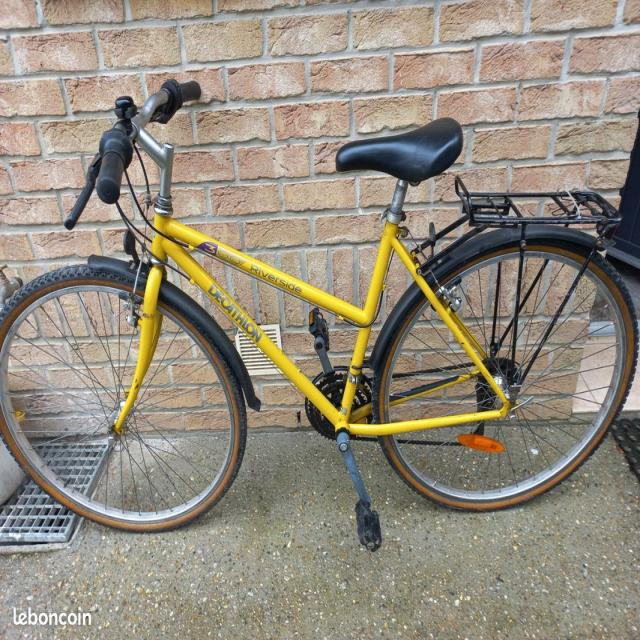Bike: (0, 78, 640, 551)
